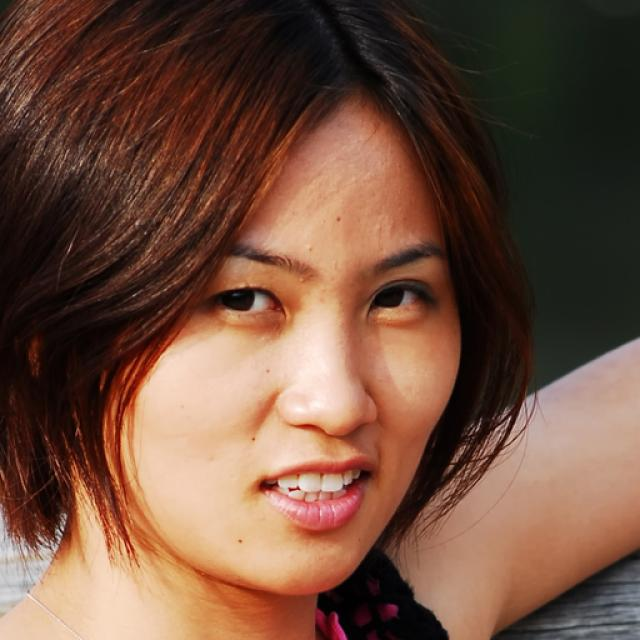Acne: (292, 238, 318, 259), (286, 271, 313, 291)
